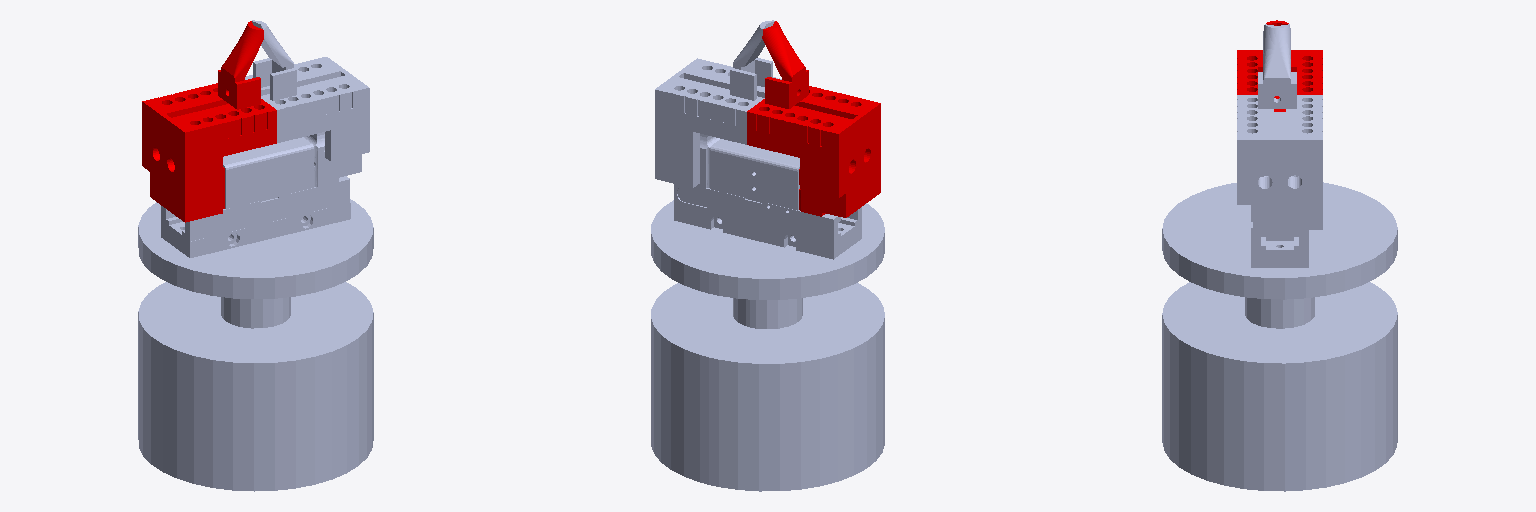
robot.urdf — motoman_sia20d:
<?xml version="1.0" encoding="UTF-8"?>
<!-- =================================================================================== -->
<!-- |    This document was autogenerated by xacro from sia20d.xacro                   | -->
<!-- |    EDITING THIS FILE BY HAND IS NOT RECOMMENDED                                 | -->
<!-- =================================================================================== -->
<robot xmlns:xacro="http://ros.org/wiki/xacro" name="motoman_sia20d">
   <link name="base_link">
      <visual>
         <geometry>
            <mesh filename="package://motoman_sia20d_support/meshes/sia20d/visual/MOTOMAN_BASE.stl" />
         </geometry>
         <material name="blue">
            <color rgba="0 0 1 1" />
         </material>
      </visual>
      <collision>
         <geometry>
            <mesh filename="package://motoman_sia20d_support/meshes/sia20d/collision/MOTOMAN_BASE.stl" />
         </geometry>
         <material name="yellow">
            <color rgba="0 1 1 1" />
         </material>
      </collision>
      <inertial>
         <mass value="5" />
         <inertia ixx="1" ixy="0.0" ixz="0.0" iyy="1" iyz="0.0" izz="1" />
      </inertial>
   </link>
   <link name="link_s">
      <visual>
         <origin rpy="0 0 3.1416" xyz="0 0 0" />
         <geometry>
            <mesh filename="package://motoman_sia20d_support/meshes/sia20d/visual/MOTOMAN_AXIS_S.stl" />
         </geometry>
         <material name="silver">
            <color rgba="0.8 0.8 0.8 1" />
         </material>
      </visual>
      <collision>
         <origin rpy="0 0 3.1416" xyz="0 0 0" />
         <geometry>
            <mesh filename="package://motoman_sia20d_support/meshes/sia20d/collision/MOTOMAN_AXIS_S.stl" />
         </geometry>
         <material name="yellow" />
      </collision>
 <inertial>
         <mass value="5" />
         <inertia ixx="1" ixy="0.0" ixz="0.0" iyy="1" iyz="0.0" izz="1" />
      </inertial>
   </link>
   <link name="link_l">
      <visual>
         <origin rpy="1.57 3.1416 3.1416" xyz="0 0 0" />
         <geometry>
            <mesh filename="package://motoman_sia20d_support/meshes/sia20d/visual/MOTOMAN_AXIS_L.stl" />
         </geometry>
         <material name="blue" />
      </visual>
      <collision>
         <origin rpy="1.57 3.1416 3.1416" xyz="0 0 0" />
         <geometry>
            <mesh filename="package://motoman_sia20d_support/meshes/sia20d/collision/MOTOMAN_AXIS_L.stl" />
         </geometry>
         <material name="yellow" />
      </collision>
      <inertial>
         <mass value="5" />
         <inertia ixx="1" ixy="0.0" ixz="0.0" iyy="1" iyz="0.0" izz="1" />
      </inertial>
   </link>
   <link name="link_e">
      <visual>
         <origin rpy="0 0 0" xyz="0 0 0" />
         <geometry>
            <mesh filename="package://motoman_sia20d_support/meshes/sia20d/visual/MOTOMAN_AXIS_E.stl" />
         </geometry>
         <material name="silver" />
      </visual>
      <collision>
         <origin rpy="0 0 0" xyz="0 0 0" />
         <geometry>
            <mesh filename="package://motoman_sia20d_support/meshes/sia20d/collision/MOTOMAN_AXIS_E.stl" />
         </geometry>
         <material name="yellow" />
      </collision>
 <inertial>
         <mass value="5" />
         <inertia ixx="1" ixy="0.0" ixz="0.0" iyy="1" iyz="0.0" izz="1" />
      </inertial>
   </link>
   <link name="link_u">
      <visual>
         <origin rpy="1.57 -3.1415 3.1416" xyz="0 0 0" />
         <geometry>
            <mesh filename="package://motoman_sia20d_support/meshes/sia20d/visual/MOTOMAN_AXIS_U.stl" />
         </geometry>
         <material name="blue" />
      </visual>
      <collision>
         <origin rpy="1.57 -3.1415 3.1416" xyz="0 0 0" />
         <geometry>
            <mesh filename="package://motoman_sia20d_support/meshes/sia20d/collision/MOTOMAN_AXIS_U.stl" />
         </geometry>
         <material name="yellow" />
      </collision>
 <inertial>
         <mass value="5" />
         <inertia ixx="1" ixy="0.0" ixz="0.0" iyy="1" iyz="0.0" izz="1" />
      </inertial>
   </link>
   <link name="link_r">
      <visual>
         <origin rpy="0 0 0" xyz="0 0 0" />
         <geometry>
            <mesh filename="package://motoman_sia20d_support/meshes/sia20d/visual/MOTOMAN_AXIS_R.stl" />
         </geometry>
         <material name="silver" />
      </visual>
      <collision>
         <origin rpy="0 0 0" xyz="0 0 0" />
         <geometry>
            <mesh filename="package://motoman_sia20d_support/meshes/sia20d/collision/MOTOMAN_AXIS_R.stl" />
         </geometry>
         <material name="yellow" />
      </collision>
      <inertial>
         <mass value="5" />
         <inertia ixx="1" ixy="0.0" ixz="0.0" iyy="1" iyz="0.0" izz="1" />
      </inertial>
   </link>
   <link name="link_b">
      <visual>
         <origin rpy="-1.57 0 0" xyz="0 0 0" />
         <geometry>
            <mesh filename="package://motoman_sia20d_support/meshes/sia20d/visual/MOTOMAN_AXIS_B.stl" />
         </geometry>
         <material name="blue" />
      </visual>
      <collision>
         <origin rpy="-1.57 0 0" xyz="0 0 0" />
         <geometry>
            <mesh filename="package://motoman_sia20d_support/meshes/sia20d/collision/MOTOMAN_AXIS_B.stl" />
         </geometry>
         <material name="yellow" />
      </collision>
      <inertial>
         <mass value="5" />
         <inertia ixx="1" ixy="0.0" ixz="0.0" iyy="1" iyz="0.0" izz="1" />
      </inertial>
   </link>
   <link name="link_t">
      <visual>
         <geometry>
            <mesh filename="package://motoman_sia20d_support/meshes/sia20d/visual/MOTOMAN_AXIS_T.stl" />
         </geometry>
         <material name="silver" />
      </visual>
      <collision>
         <geometry>
            <mesh filename="package://motoman_sia20d_support/meshes/sia20d/collision/MOTOMAN_AXIS_T.stl" />
         </geometry>
         <material name="yellow" />
      </collision>
      <inertial>
         <mass value="5" />
         <inertia ixx="1" ixy="0.0" ixz="0.0" iyy="1" iyz="0.0" izz="1" />
      </inertial>
   </link>



   <link name="tool0">
     <inertial>
      <origin
        xyz="0.029072 0.059306 -0.024512"
        rpy="0 0 0" />
      <mass
        value="1.1697" />
      <inertia
        ixx="9.7204E-07"
        ixy="-1.2761E-13"
        ixz="4.8457E-10"
        iyy="9.7204E-07"
        iyz="2.5598E-10"
        izz="3.0898E-13" />
    </inertial>
    <visual>
      <origin
        xyz="0 0 0"
        rpy="0 0 0" />
      <geometry>
        <mesh
          filename="package://gripper_assembly/meshes/GripperBase.STL" />
      </geometry>
      <material
        name="">
        <color
          rgba="0.79216 0.81961 0.93333 1" />
      </material>
    </visual>
    <collision>
      <origin
        xyz="0 0 0"
        rpy="0 0 0" />
      <geometry>
        <mesh
          filename="package://gripper_assembly/meshes/GripperBase.STL" />
      </geometry>
    </collision>
   </link>
   
  <link
    name="Finger2">
    <inertial>
      <origin
        xyz="-0.0025535 0.011322 -0.030358"
        rpy="0 0 0" />
      <mass
        value="0.004984" />
      <inertia
        ixx="1.5491E-07"
        ixy="-7.3639E-10"
        ixz="-3.524E-09"
        iyy="1.4851E-07"
        iyz="-3.1016E-08"
        izz="6.565E-09" />
    </inertial>
    <visual>
      <origin
        xyz="0 0 0"
        rpy="0 0 0" />
      <geometry>
        <mesh
          filename="package://gripper_assembly/meshes/Finger2.STL" />
      </geometry>
      <material
        name="">
        <color
          rgba="0.79216 0.81961 0.93333 1" />
      </material>
    </visual>
    <collision>
      <origin
        xyz="0 0 0"
        rpy="0 0 0" />
      <geometry>
        <mesh
          filename="package://gripper_assembly/meshes/Finger2.STL" />
      </geometry>
    </collision>
  </link>


  <link
    name="Finger1">
    <inertial>
      <origin
        xyz="-0.01775 0.077561 -0.0015192"
        rpy="0 0 0" />
      <mass
        value="0.004984" />
      <inertia
        ixx="1.4851E-07"
        ixy="3.1016E-08"
        ixz="-7.3639E-10"
        iyy="6.565E-09"
        iyz="3.524E-09"
        izz="1.5491E-07" />
    </inertial>
    <visual>
      <origin
        xyz="0 0 0"
        rpy="0 0 0" />
      <geometry>
        <mesh
          filename="package://gripper_assembly/meshes/Finger1.STL" />
      </geometry>
      <material
        name="">
        <color
          rgba="1 0 0 1" />
      </material>
    </visual>
    <collision>
      <origin
        xyz="0 0 0"
        rpy="0 0 0" />
      <geometry>
        <mesh
          filename="package://gripper_assembly/meshes/Finger1.STL" />
      </geometry>
    </collision>
  </link>









   <joint name="joint_s" type="revolute">
      <parent link="base_link" />
      <child link="link_s" />
      <origin rpy="0 0 0" xyz="0 0 0.41" />
      <axis xyz="0 0 1" />
      <limit effort="100" lower="-3.1416" upper="3.1416" velocity="2.26" />
   </joint>
   <joint name="joint_l" type="revolute">
      <parent link="link_s" />
      <child link="link_l" />
      <origin rpy="0 0 0" xyz="0 0 0" />
      <axis xyz="0 1 0" />
      <limit effort="100" lower="-1.91" upper="1.91" velocity="2.26" />
   </joint>
   <joint name="joint_e" type="revolute">
      <parent link="link_l" />
      <child link="link_e" />
      <origin rpy="0 0 0" xyz="0 0 0.49" />
      <axis xyz="0 0 1" />
      <limit effort="100" lower="-2.96" upper="2.96" velocity="2.96" />
   </joint>
   <joint name="joint_u" type="revolute">
      <parent link="link_e" />
      <child link="link_u" />
      <origin rpy="0 0 0" xyz="0 0 0" />
      <axis xyz="0 -1 0" />
      <limit effort="100" lower="-2.26" upper="2.26" velocity="2.96" />
   </joint>
   <joint name="joint_r" type="revolute">
      <parent link="link_u" />
      <child link="link_r" />
      <origin rpy="0 0 0" xyz="0 0 0.420" />
      <axis xyz="0 0 -1" />
      <limit effort="100" lower="-3.1416" upper="3.1416" velocity="3.48" />
   </joint>
   <joint name="joint_b" type="revolute">
      <parent link="link_r" />
      <child link="link_b" />
      <origin rpy="0 0 0" xyz="0 0 0" />
      <axis xyz="0 -1 0" />
      <limit effort="100" lower="-1.91" upper="1.91" velocity="3.48" />
   </joint>
   <joint name="joint_t" type="revolute">
      <parent link="link_b" />
      <child link="link_t" />
      <origin rpy="0 0 0" xyz="0 0 0.18" />
      <axis xyz="0 0 -1" />
      <limit effort="100" lower="-3.1416" upper="3.1416" velocity="6.97" />
   </joint>


   <joint name="link_t-tool0" type="fixed">
      <origin rpy="-1.5708 0 0" xyz="-0.028 -0.06 .074" />
      <parent link="link_t" />
      <child link="tool0" />
   </joint>



  <joint
    name="Joint1"
    type="prismatic">
    <origin
      xyz="0 -0.070202 0.059329"
      rpy="0 0 3.1416" />
    <parent
      link="tool0" />
    <child
      link="Finger1" />
    <axis
      xyz="-1 0 0" />
    <limit
      lower = "-.05"
      upper = "0"
      effort="0"
      velocity="0" />
  </joint>



  <joint
    name="Joint2"
    type="prismatic">
    <origin
      xyz="0.029072 -0.1174 0.060364"
      rpy="4.71238898038 4.71238898038 0" />
    <parent
      link="tool0" />
    <child
      link="Finger2" />
    <axis
      xyz="0 1 0" />
    <limit
      lower = "0"
      upper = ".05"
      effort="0"
      velocity="0" />
  </joint>




</robot>

--- What the picture shows (computed from the rendered views, not written in the file) ---
3 views of the same robot in one strip: view 1: azimuth 30°, elevation 25°; view 2: azimuth 150°, elevation 25°; view 3: azimuth 270°, elevation 25° (orthographic).
Robot: motoman_sia20d — 11 links, 10 joints (7 revolute, 2 prismatic, 1 fixed); root link base_link; default pose: all joints at 0.
Visible links, largest first — view 1: tool0, Finger1, Finger2; view 2: tool0, Finger1, Finger2; view 3: tool0, Finger2, Finger1.
Boxes of the visible links, x1,y1,x2,y2 form: tool0: (138, 137, 373, 491); Finger1: (142, 21, 276, 222); Finger2: (245, 20, 369, 186); tool0: (651, 139, 884, 491); Finger1: (747, 21, 880, 217); Finger2: (655, 20, 781, 187); tool0: (1162, 182, 1397, 491); Finger2: (1237, 24, 1322, 240); Finger1: (1237, 20, 1322, 111).
Size in the robot's own frame: 0.1269 by 0.127 by 0.2486 metres.
3 mesh visuals loaded from 11 distinct referenced files (3 binary STL); not drawn: 8 (reference not matched to a file when rendering).